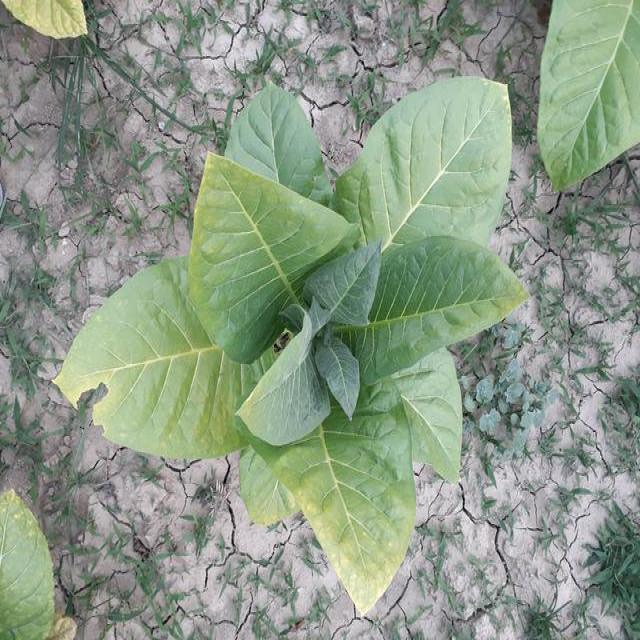crop: (59, 68, 526, 617)
